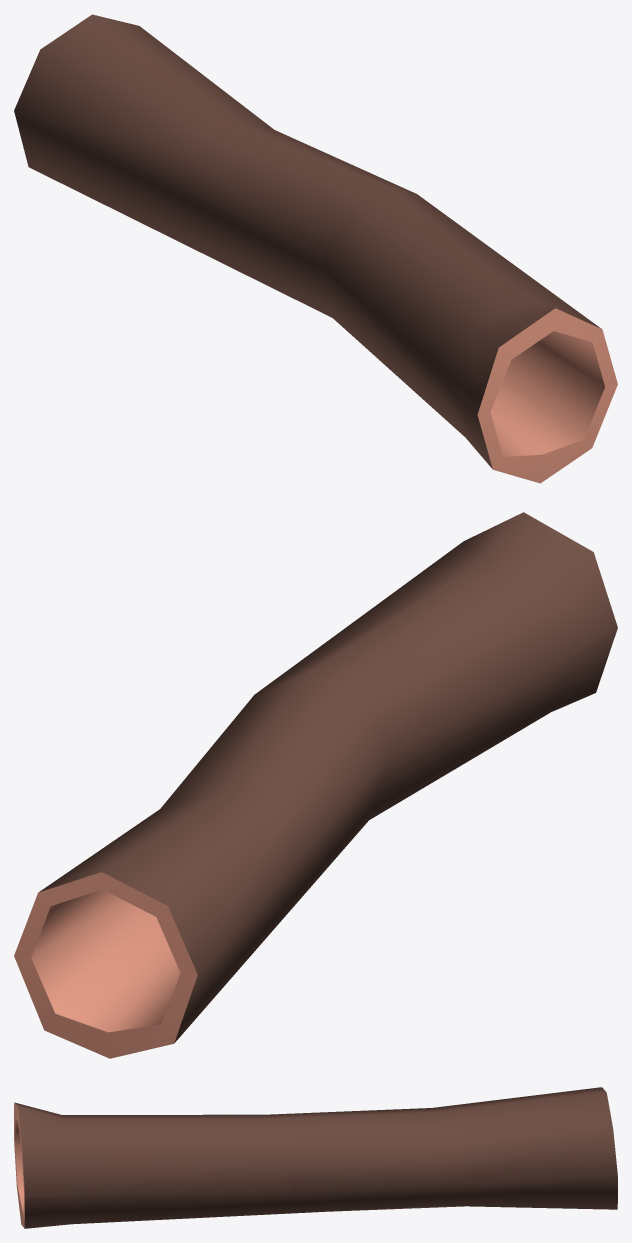
The model's file is firewood_005.glb.
3 views of the same model, one above another, from view 1: azimuth 30°, elevation 25°; view 2: azimuth 150°, elevation 25°; view 3: azimuth 270°, elevation 25° (orthographic). The views are drawn at different scales.
Parts seen in each view (by area): view 1: firewood_005; view 2: firewood_005; view 3: firewood_005.
Boxes of the visible parts, bbox=[...] form: firewood_005: bbox=[14, 14, 617, 483]; firewood_005: bbox=[14, 512, 617, 1058]; firewood_005: bbox=[14, 1087, 617, 1228].
Bounding box in the file's own units: 0.6613 × 0.5672 × 2.54.
1 material, 1 textured.
